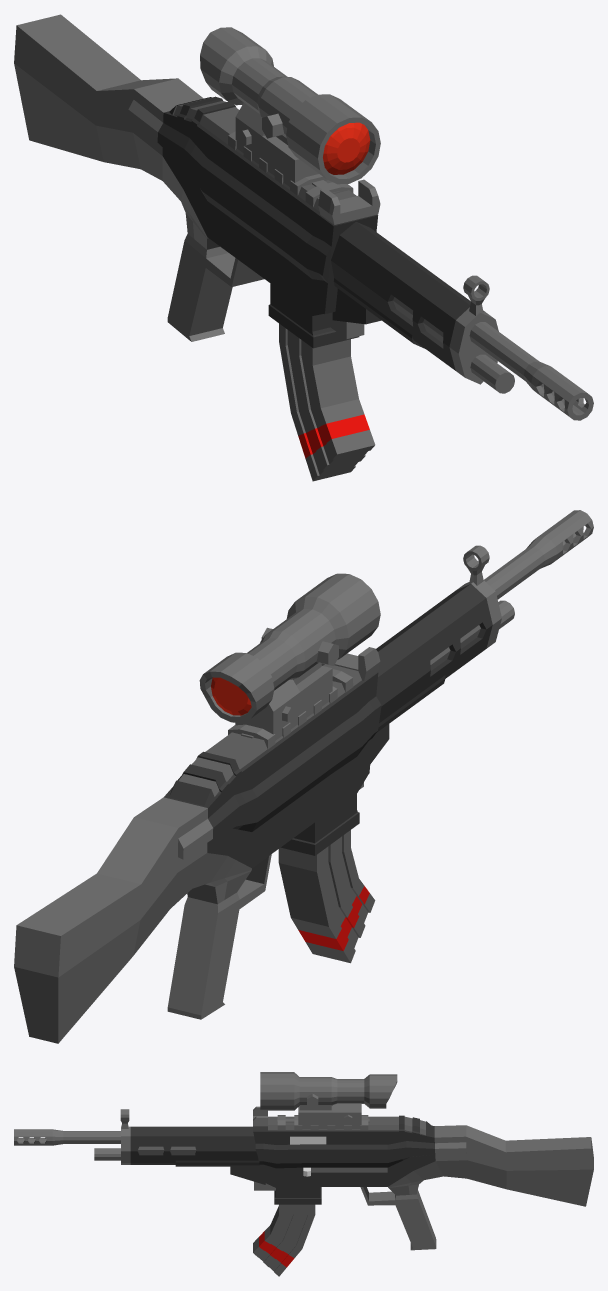
File: PrecisionRifle.glb
3 views of the same model, one above another, from view 1: azimuth 30°, elevation 25°; view 2: azimuth 150°, elevation 25°; view 3: azimuth 270°, elevation 25° (orthographic). The views are drawn at different scales.
Parts seen in each view (by area): view 1: Chassis, Scope, Mag; view 2: Chassis, Scope, Mag; view 3: Chassis, Scope, Mag, Eject.
Part boxes in pixels (<box>): Chassis: <box>14,14,593,420</box>; Scope: <box>200,27,380,186</box>; Mag: <box>279,323,375,481</box>; Chassis: <box>14,510,593,1043</box>; Scope: <box>199,573,380,740</box>; Mag: <box>278,830,375,963</box>; Chassis: <box>14,1106,593,1250</box>; Scope: <box>260,1072,397,1129</box>; Mag: <box>253,1204,315,1276</box>; Eject: <box>290,1136,326,1144</box>.
Size of the model in its own units: 0.0778 by 0.3959 by 1.05.
